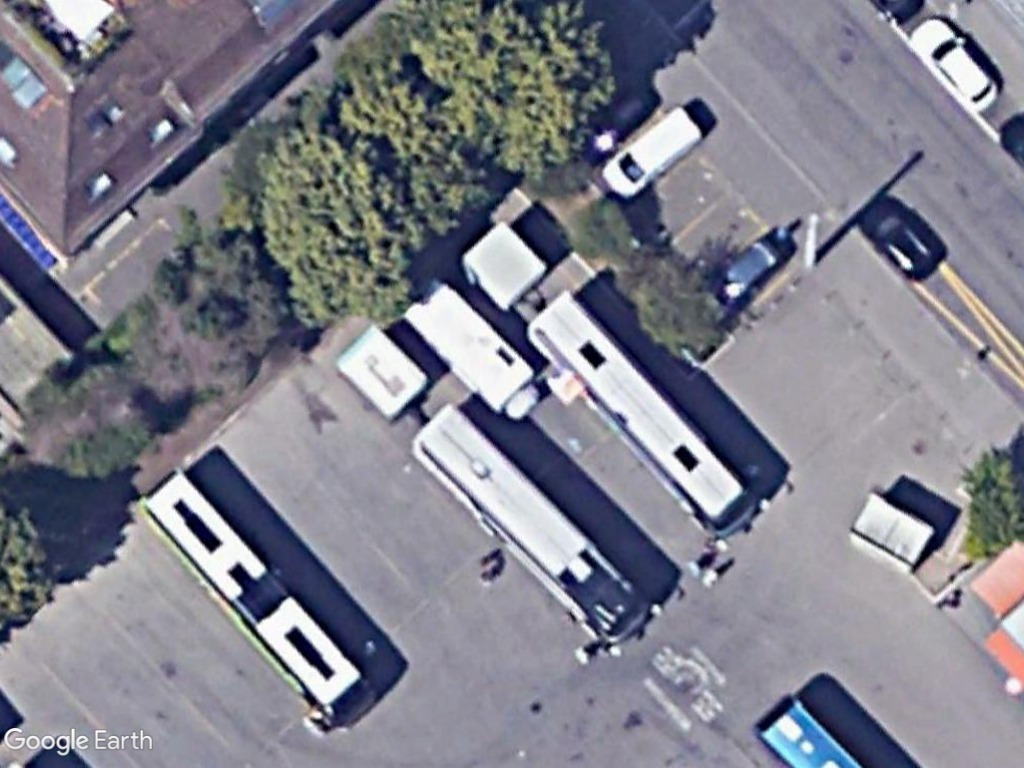bus: (403, 399, 644, 658), (137, 467, 372, 727), (526, 291, 761, 543)
car: (908, 14, 1004, 116)
truck: (405, 280, 540, 426)
van: (597, 103, 705, 200)
